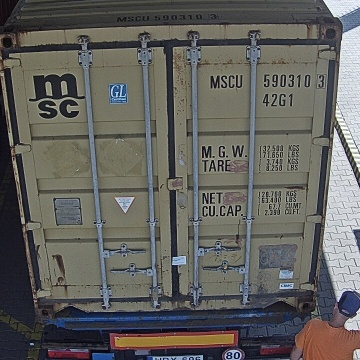serial_id: (210, 74, 326, 88)
